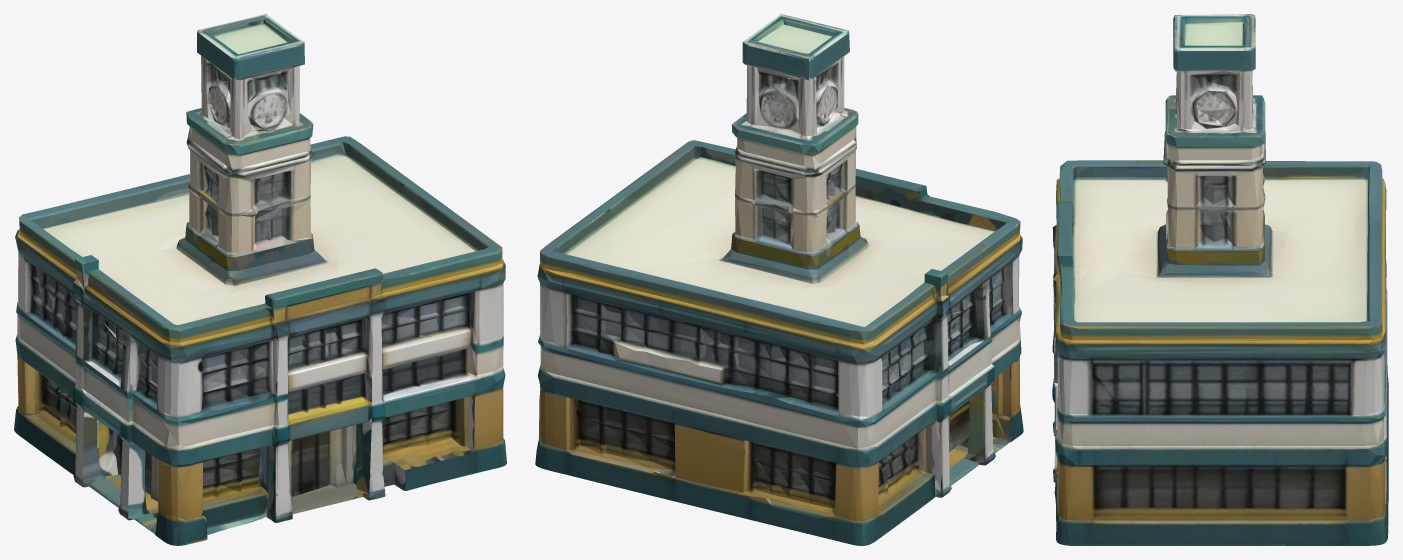
The model's file is civic.glb.
The picture shows the model from 3 angles, left to right: view 1: azimuth 30°, elevation 25°; view 2: azimuth 150°, elevation 25°; view 3: azimuth 270°, elevation 25°; orthographic projection. The views are drawn at different scales.
Visible parts, largest first — view 1: figure; view 2: figure; view 3: figure.
Part boxes in pixels (bbox=[...]): figure: bbox=[14, 14, 506, 545]; figure: bbox=[535, 14, 1023, 545]; figure: bbox=[1052, 14, 1388, 545].
Size of the model in its own units: 0.8723 by 1 by 0.7207.
Materials: 1 (1 with a texture image).
